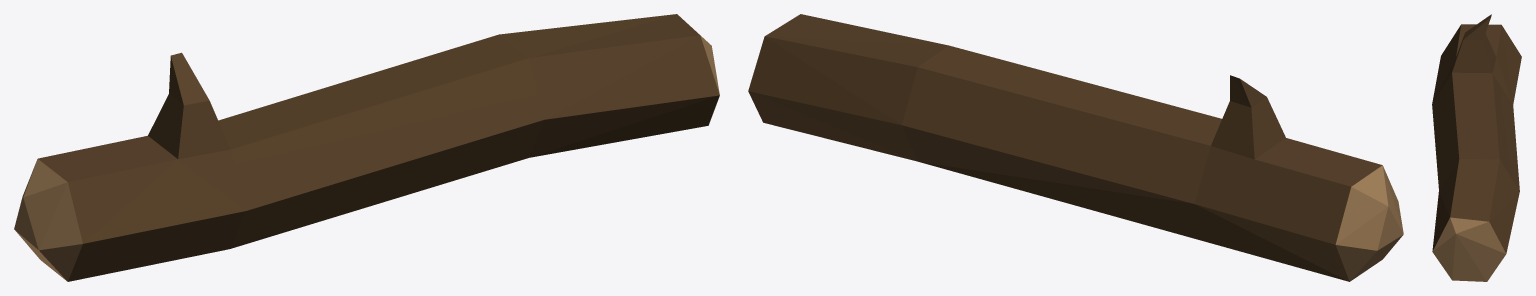
File: Branch_01.fbx
3 views of the same model, side by side, from view 1: azimuth 30°, elevation 25°; view 2: azimuth 150°, elevation 25°; view 3: azimuth 270°, elevation 25° (orthographic). The views are drawn at different scales.
Visible parts, largest first — view 1: Branch_01; view 2: Branch_01; view 3: Branch_01.
Part boxes in pixels (box(x1,y1,x2,y2)): Branch_01: box(14, 14, 719, 281); Branch_01: box(748, 14, 1403, 281); Branch_01: box(1432, 14, 1521, 281).
Bounding box in the file's own units: 81.4 × 14.94 × 21.06.
